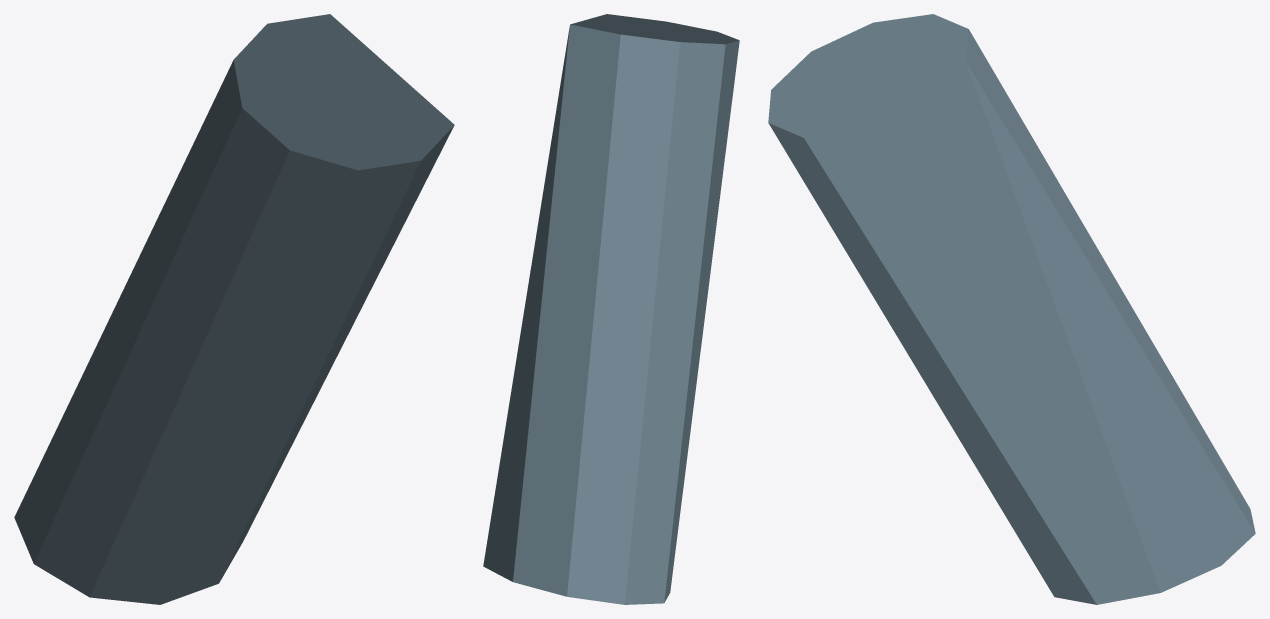
The model's file is group1387156066_lev3.002.glb.
3 views of the same model, side by side, from view 1: azimuth 30°, elevation 25°; view 2: azimuth 150°, elevation 25°; view 3: azimuth 270°, elevation 25° (orthographic). The views are drawn at different scales.
Visible parts, largest first — view 1: group1387156066_lev3.002; view 2: group1387156066_lev3.002; view 3: group1387156066_lev3.002.
Part boxes in pixels (left/top/right/bottom): group1387156066_lev3.002: left=14, top=14, right=454, bottom=604; group1387156066_lev3.002: left=483, top=14, right=739, bottom=604; group1387156066_lev3.002: left=768, top=14, right=1255, bottom=604.
Bounding box in the file's own units: 0.1917 × 0.4468 × 0.3437.
